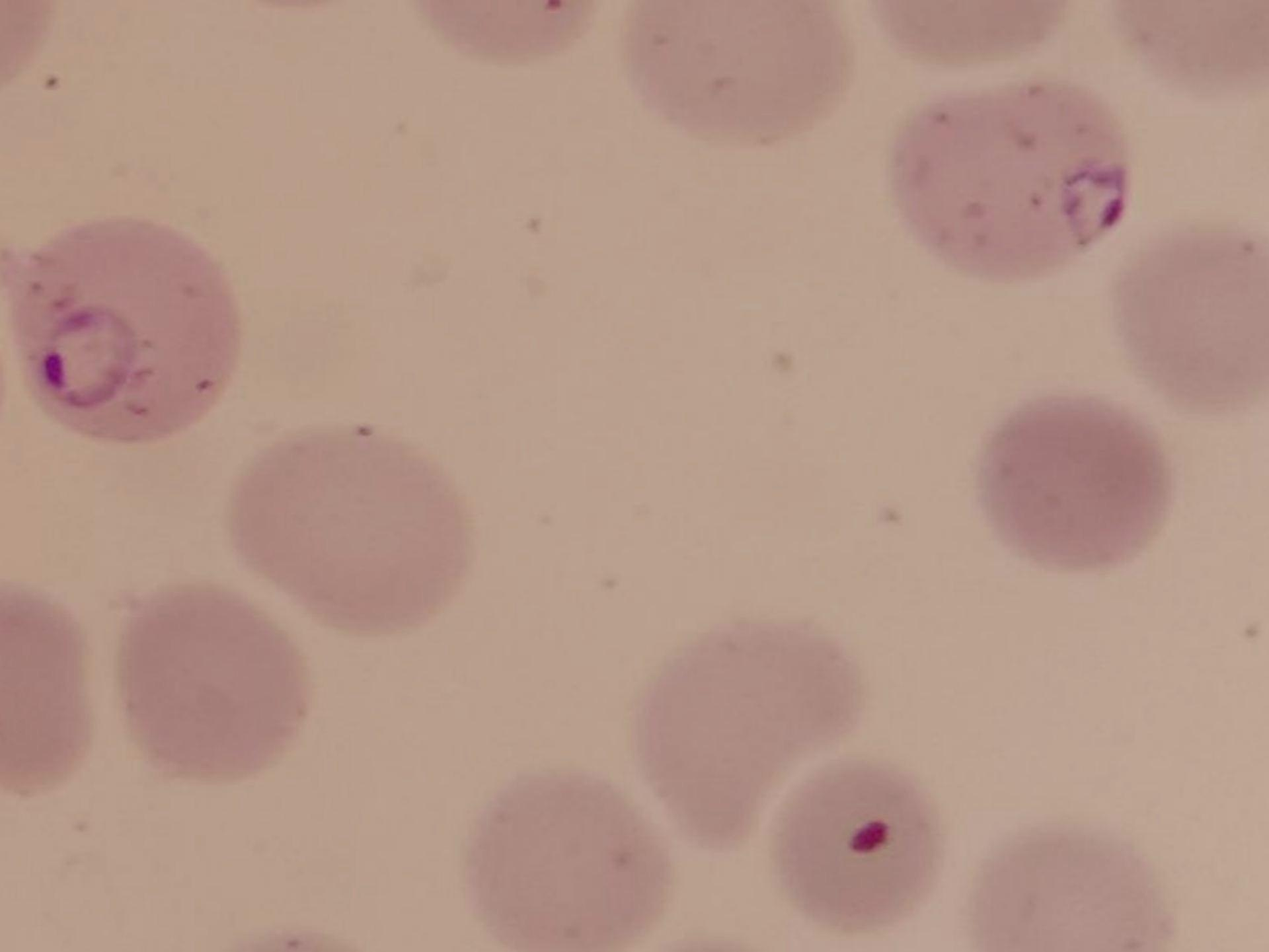Infected: (894, 78, 1128, 282), (18, 228, 241, 438)
Uninfected: (639, 613, 862, 852), (240, 430, 479, 635), (469, 774, 673, 952), (121, 589, 308, 780), (987, 386, 1169, 572), (780, 760, 931, 920)
